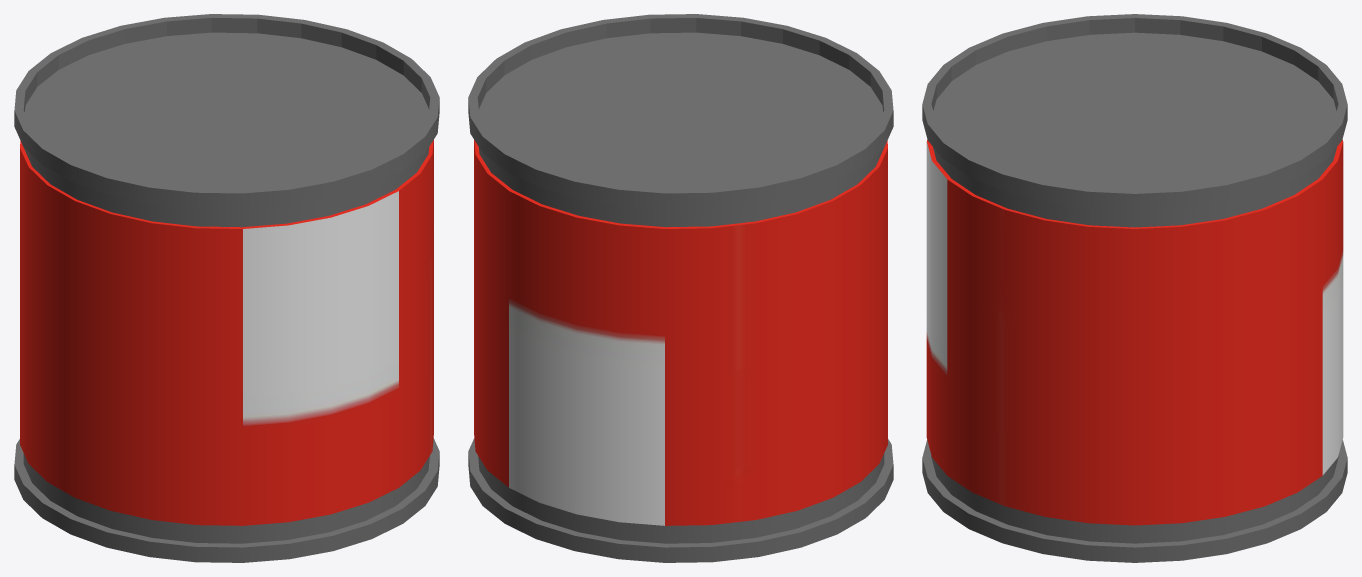
The model's file is tin1.fbx.
The picture shows the model from 3 angles, left to right: view 1: azimuth 30°, elevation 25°; view 2: azimuth 150°, elevation 25°; view 3: azimuth 270°, elevation 25°; orthographic projection.
Visible parts, largest first — view 1: pCylinder18; view 2: pCylinder18; view 3: pCylinder18.
Boxes of the visible parts, left/top/right/bottom form: pCylinder18: left=14, top=14, right=439, bottom=562; pCylinder18: left=468, top=14, right=893, bottom=562; pCylinder18: left=922, top=14, right=1347, bottom=562.
Bounding box in the file's own units: 0.7738 × 0.7398 × 0.7727.
Materials: 2 (1 with a texture image).
